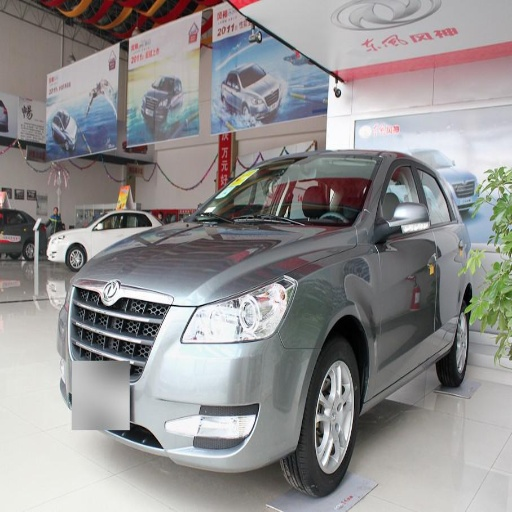front_bumper: (67, 278, 317, 471)
front_glass: (276, 155, 379, 224)
front_left_door: (372, 157, 434, 374)
